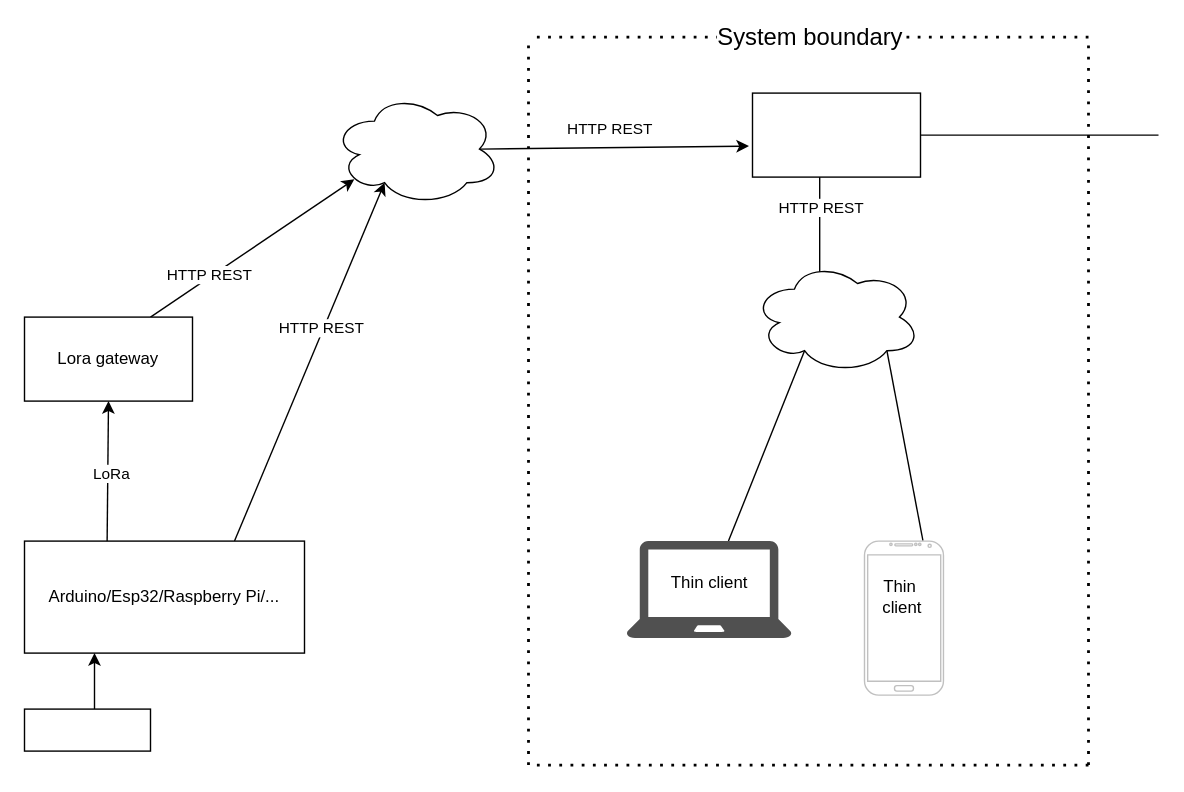
The diagram is 1184 pixels wide and 792 high, and some of its shapes have lost their labels. The shapes that lost their labels are listed below. From the top down, each one's box as (x1, y1, x2, y2) in pixels, then its label:
(751, 92, 920, 177): data-collector
(23, 708, 150, 751): IoT sensors
